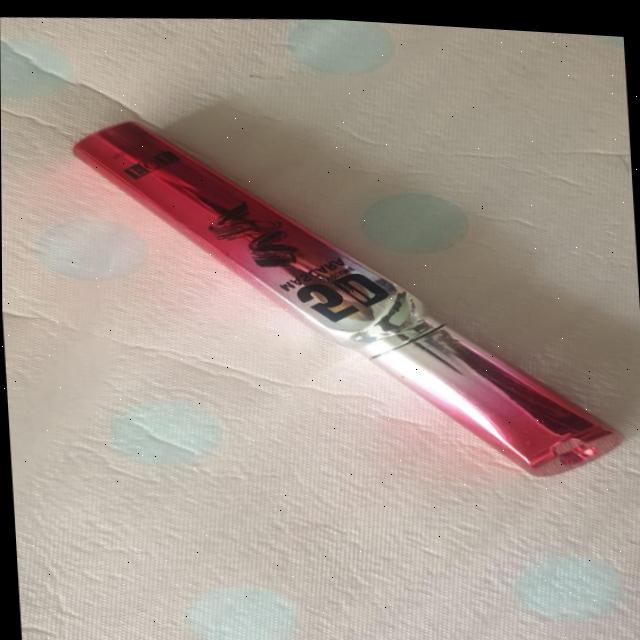mascara: (58, 68, 640, 510)
